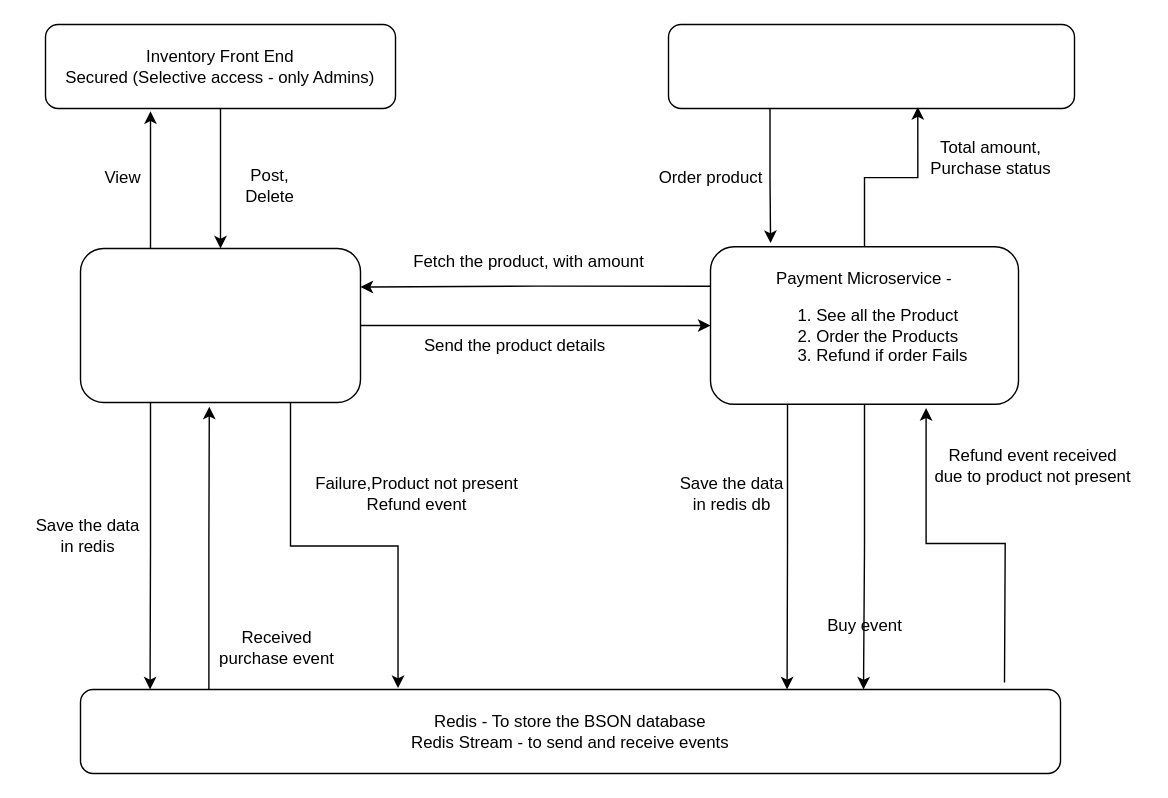
Some shapes in this 1168 by 798 pixel diagram are drawn without their labels. Here are the shapes that lost their labels. From the top down, the centre of each, then its label:
At [870,65]: "Orders/Ecommerce Website Secured (Access to everyone who is logged in)".
At [219,324]: "Inventory Microservice - Add Products Delete Products See all Products".
